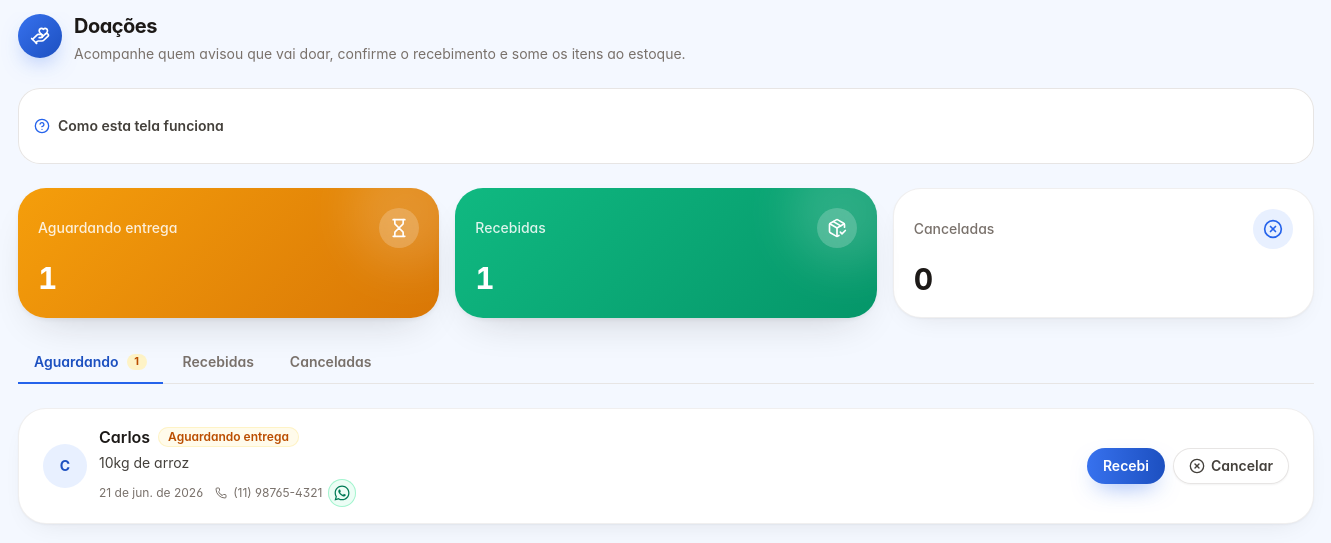
Scenario: DonationsPage › abre em "Aguardando" e troca de aba para ver as recebidas
Expected: the text "Carlos" is shown, [99,425,150,449]
Expected: the text "Ana" is not shown
Click the tab "Recebidas".
click(218, 363)  # box [167,342,270,384]
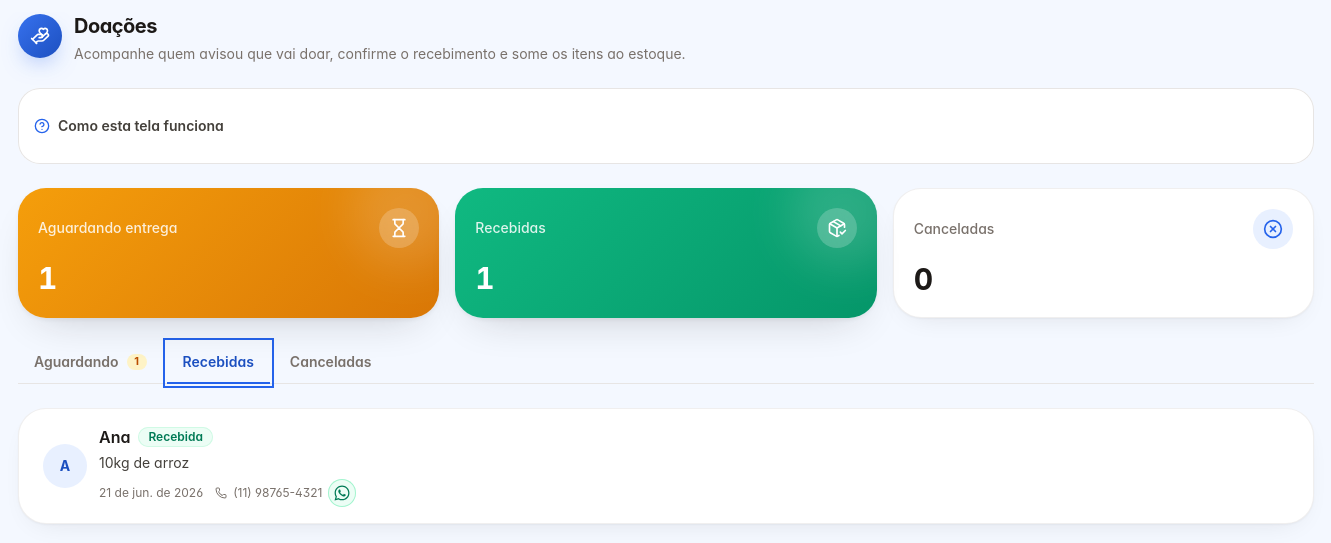
Result: the text "Ana" is shown at [99,425,130,449]
